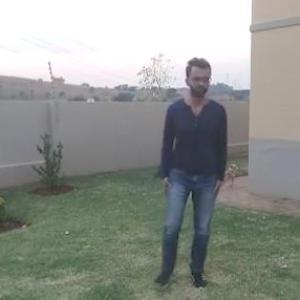follow: (144, 50, 230, 299)
